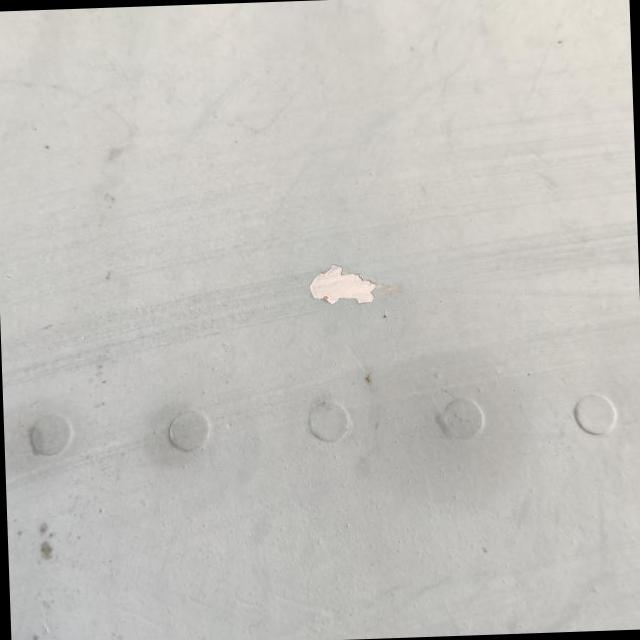Paint-off: (307, 262, 400, 308)
